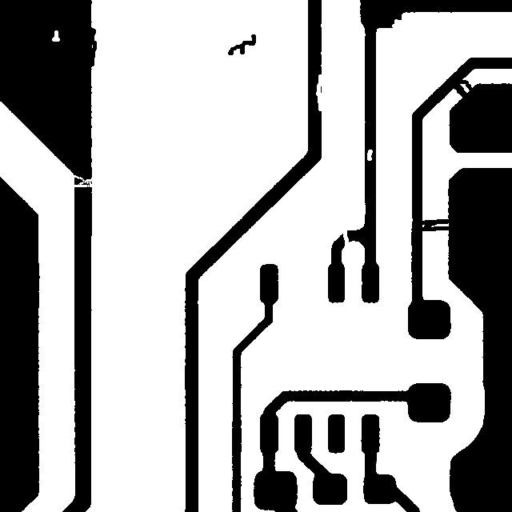copper: (220, 26, 263, 62)
mousebite: (308, 66, 334, 118), (384, 11, 410, 36)
open: (59, 166, 106, 194), (334, 217, 356, 256)
pin-hole: (44, 22, 67, 49), (359, 142, 380, 168)
short: (440, 70, 482, 110), (407, 211, 461, 238)
spur: (80, 18, 104, 74)
